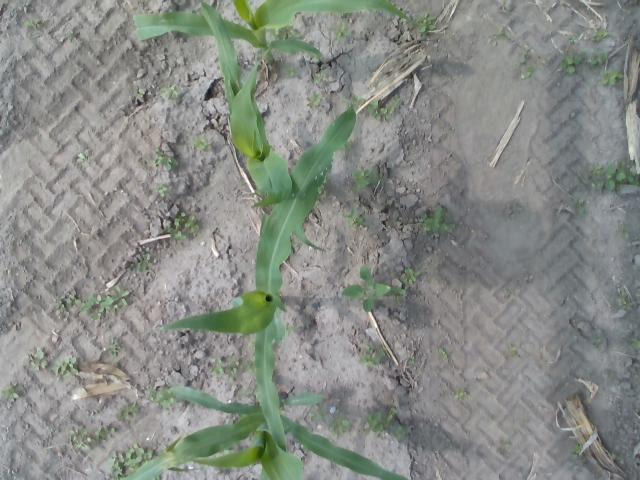Maize: (162, 102, 356, 451), (200, 0, 328, 253), (120, 385, 408, 480), (134, 0, 417, 65)
Weeds: (55, 284, 132, 322), (340, 262, 392, 313), (580, 160, 640, 194), (108, 444, 153, 478), (160, 211, 202, 242), (420, 204, 454, 234), (367, 96, 401, 122), (210, 356, 238, 385), (144, 148, 179, 171), (352, 166, 382, 191), (146, 381, 174, 407), (358, 344, 386, 368), (50, 355, 80, 377), (90, 426, 118, 448), (69, 424, 91, 452), (362, 410, 384, 436), (30, 346, 49, 374), (328, 411, 349, 436), (559, 52, 582, 74), (118, 400, 143, 420), (599, 68, 624, 88), (129, 252, 153, 272), (616, 287, 636, 310), (342, 208, 364, 228), (506, 198, 528, 218), (330, 22, 352, 42), (160, 84, 182, 103), (389, 285, 407, 307), (588, 51, 611, 68), (416, 14, 436, 33), (400, 268, 421, 286), (1, 384, 21, 402), (106, 338, 122, 359), (274, 28, 302, 40), (306, 407, 328, 422), (192, 134, 212, 150), (516, 46, 532, 66), (150, 182, 168, 198), (75, 148, 91, 165), (590, 26, 608, 41), (307, 89, 321, 108), (572, 198, 586, 216), (518, 65, 536, 79), (385, 408, 397, 428), (349, 94, 366, 108), (498, 440, 512, 456), (392, 424, 406, 440), (242, 356, 255, 372), (283, 62, 296, 78), (64, 26, 76, 42), (239, 389, 256, 400), (376, 199, 393, 210), (495, 27, 509, 40), (617, 225, 629, 239), (284, 323, 296, 336), (437, 348, 450, 360), (612, 454, 626, 464), (455, 390, 469, 400), (26, 19, 40, 29), (354, 197, 369, 206), (505, 288, 517, 298), (630, 337, 640, 349), (572, 444, 584, 454), (538, 56, 550, 66), (314, 72, 324, 84), (290, 240, 298, 253), (509, 344, 519, 354), (568, 35, 578, 45), (593, 336, 601, 348), (408, 356, 416, 366), (395, 214, 403, 222), (524, 275, 534, 281), (138, 90, 146, 97)
